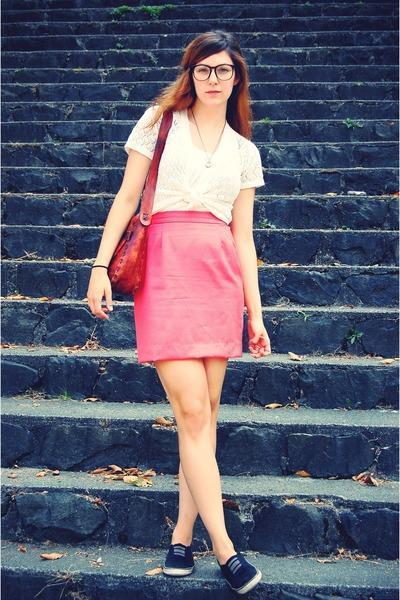bag: (96, 94, 172, 299)
shirt: (125, 108, 266, 222)
shoe: (165, 540, 257, 580)
skirt: (132, 210, 251, 371)
